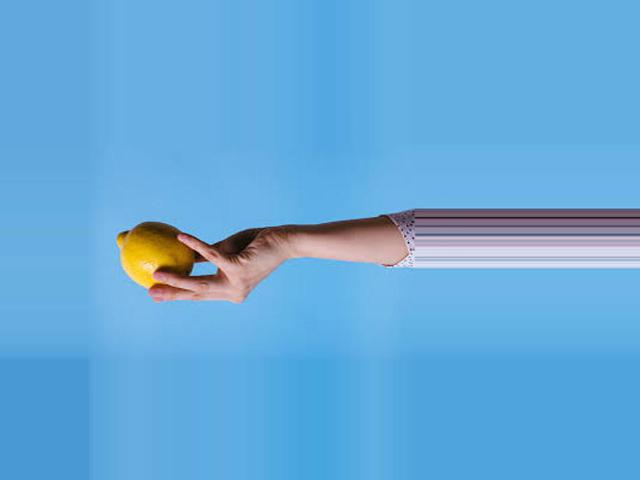lemon: (113, 215, 213, 315)
